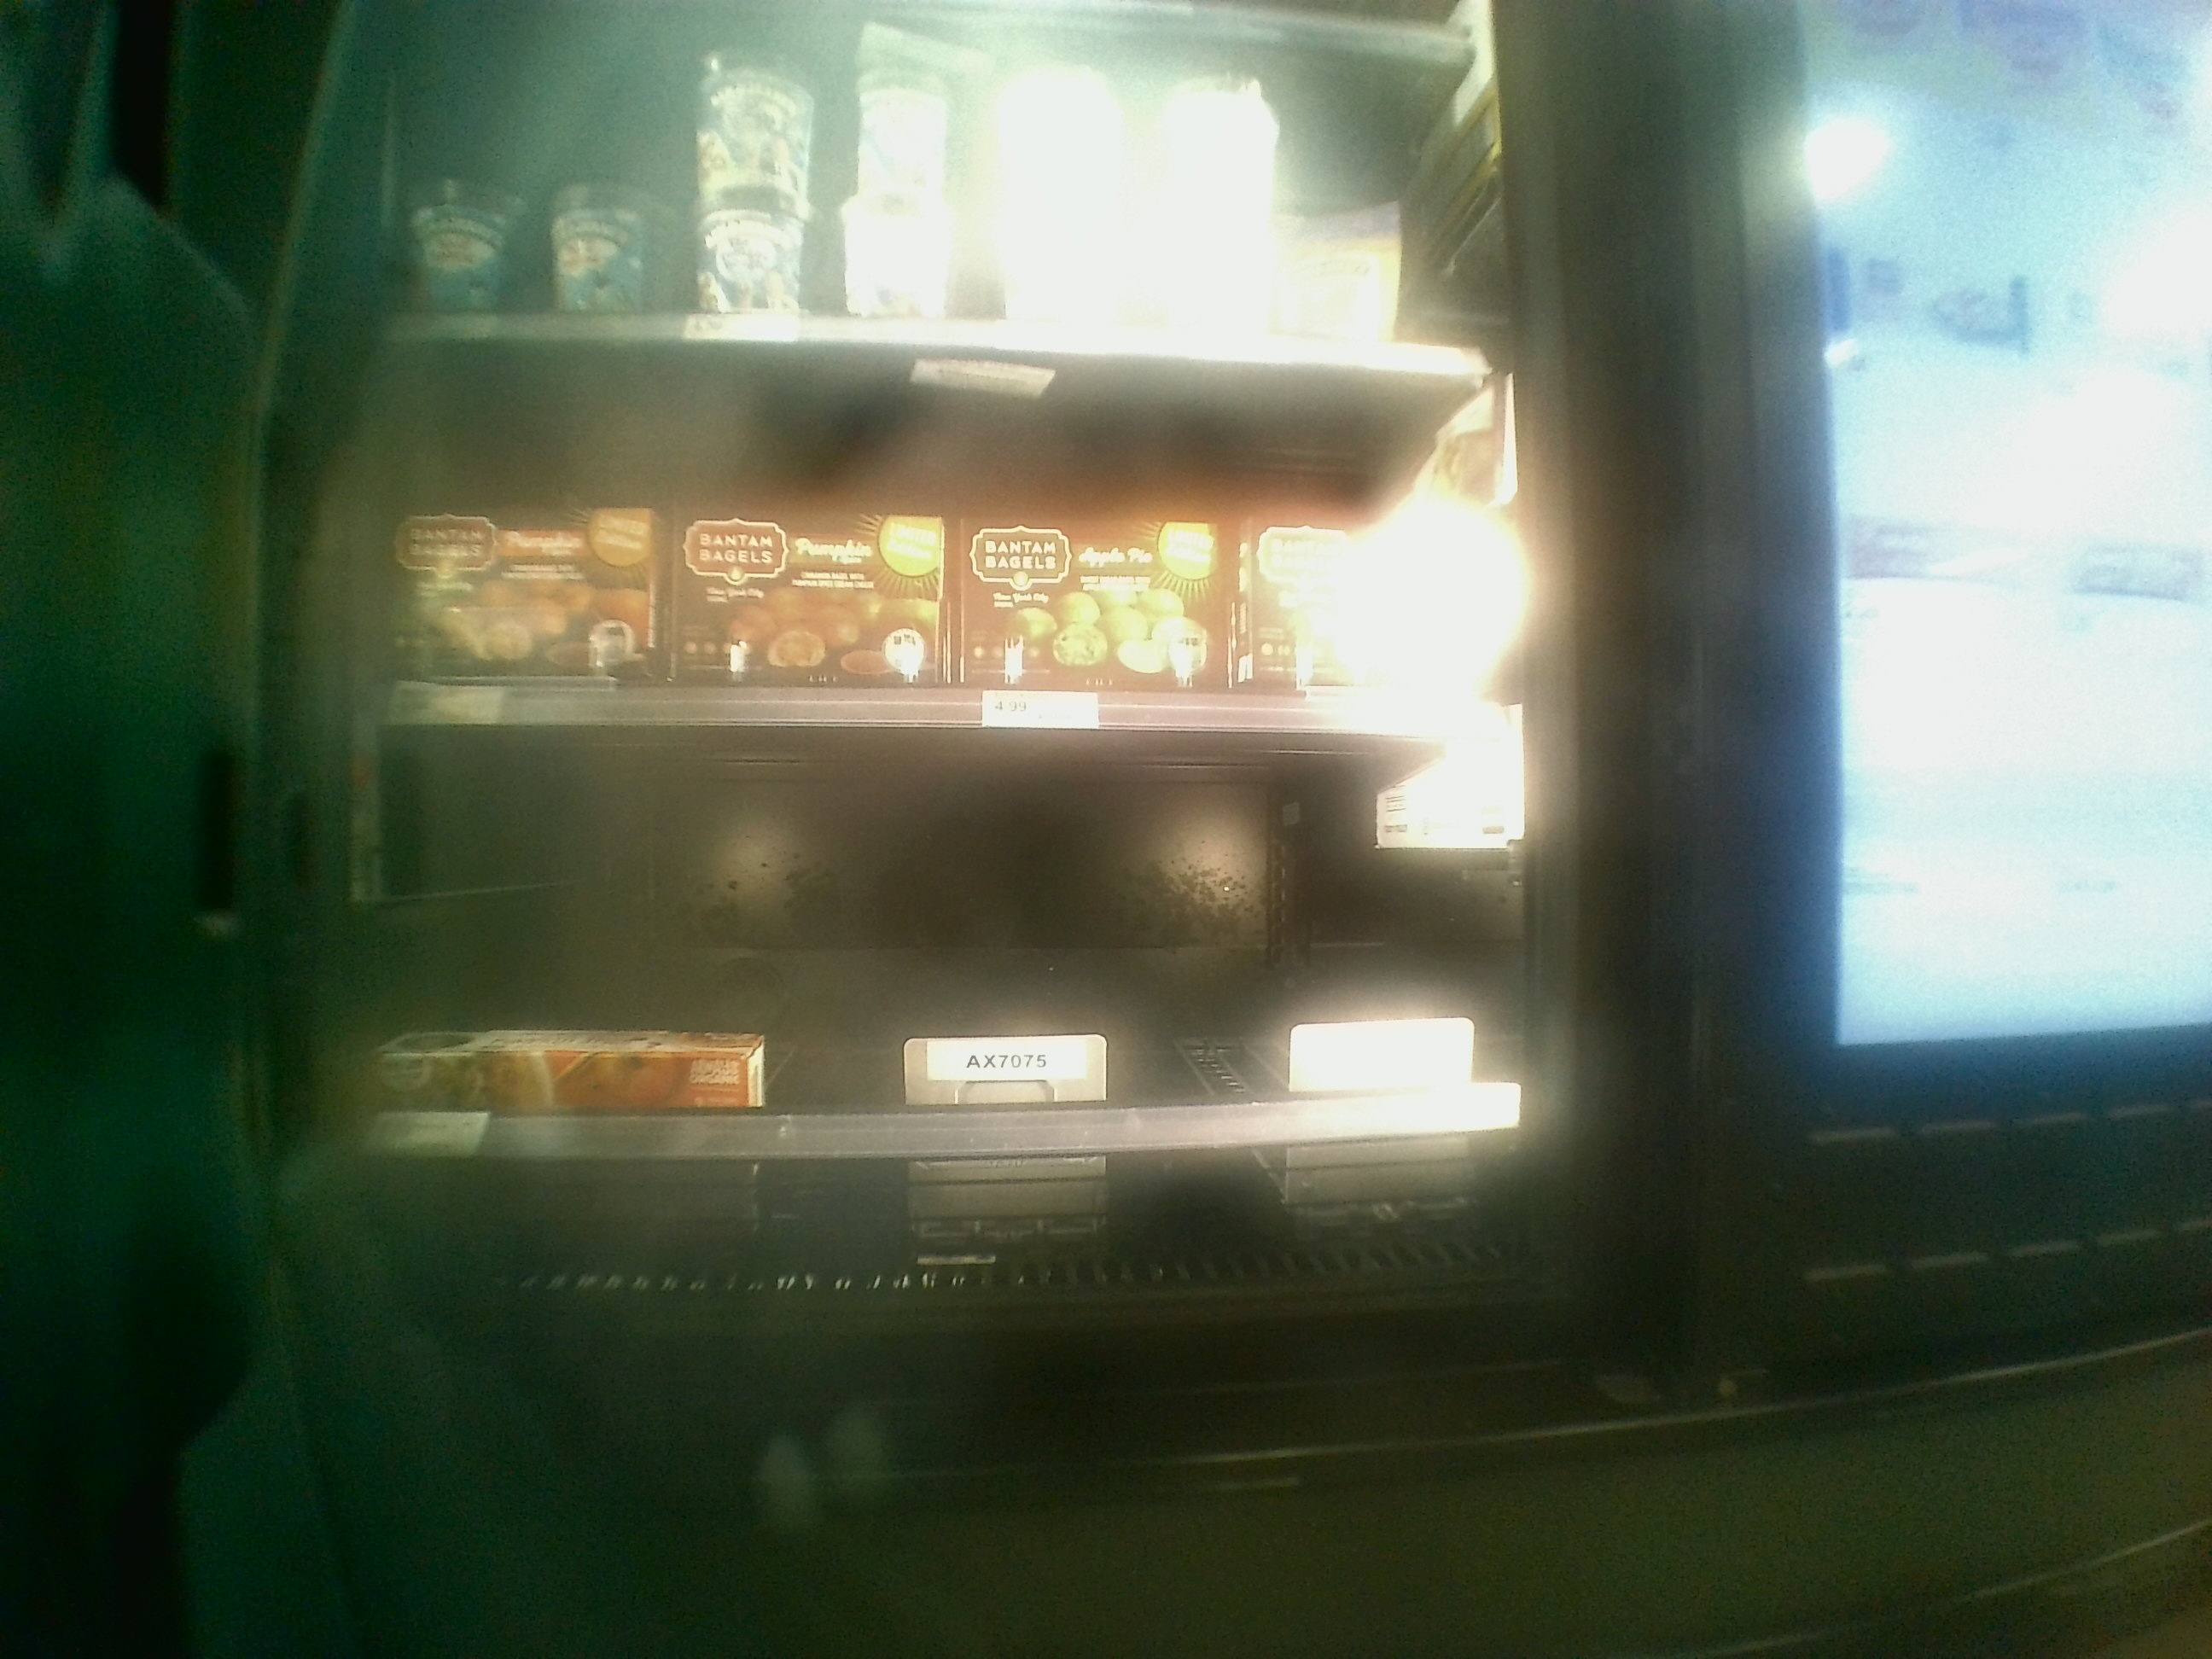shelf: (355, 685, 1514, 1127), (354, 342, 1519, 704)
